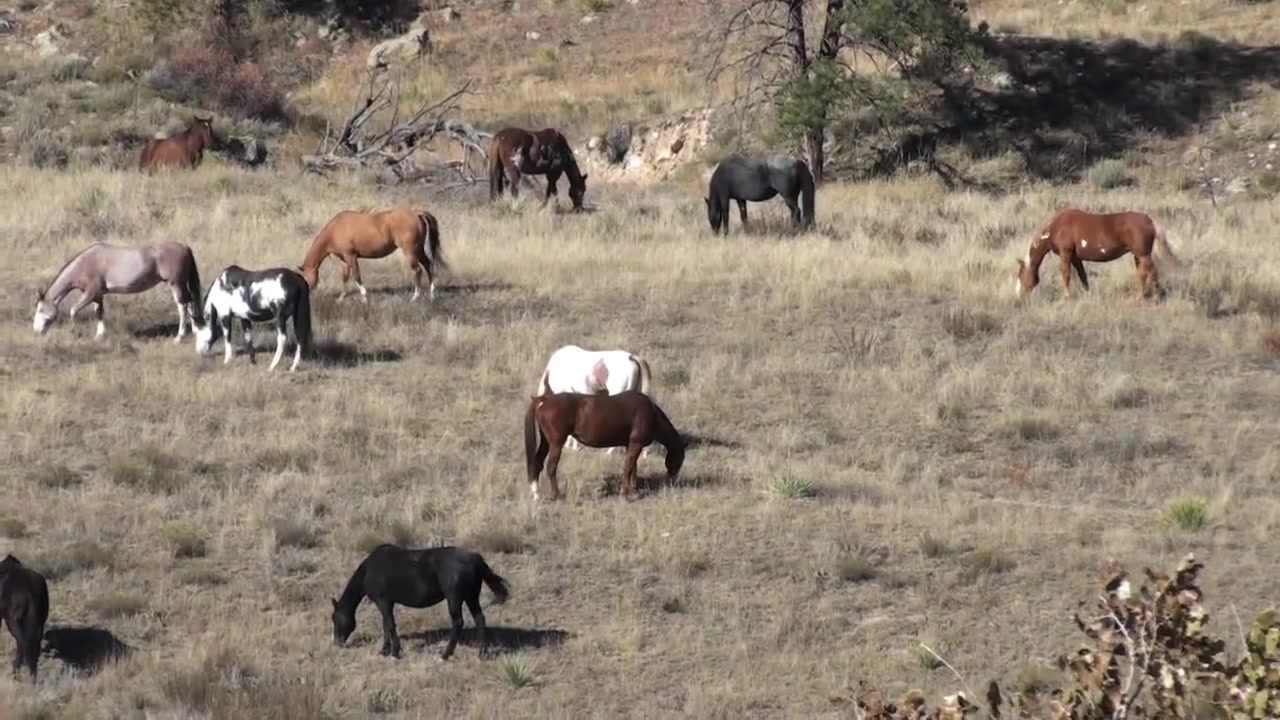horse: (330, 544, 510, 662)
